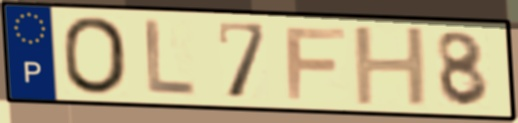7: (217, 20, 268, 101)
8: (433, 29, 493, 109)
F: (282, 25, 350, 102)
H: (350, 24, 433, 108)
L: (142, 17, 198, 100)
O: (59, 14, 131, 97)
